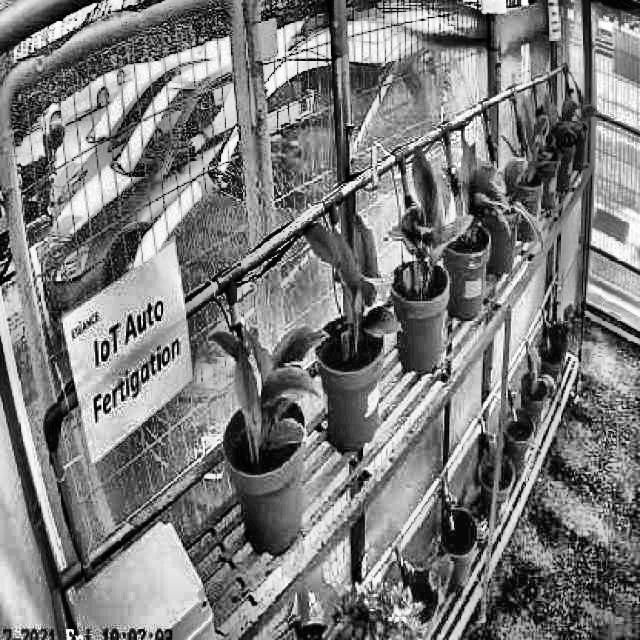plants: (208, 324, 328, 448), (385, 144, 470, 286), (308, 210, 402, 338), (457, 128, 503, 249)
